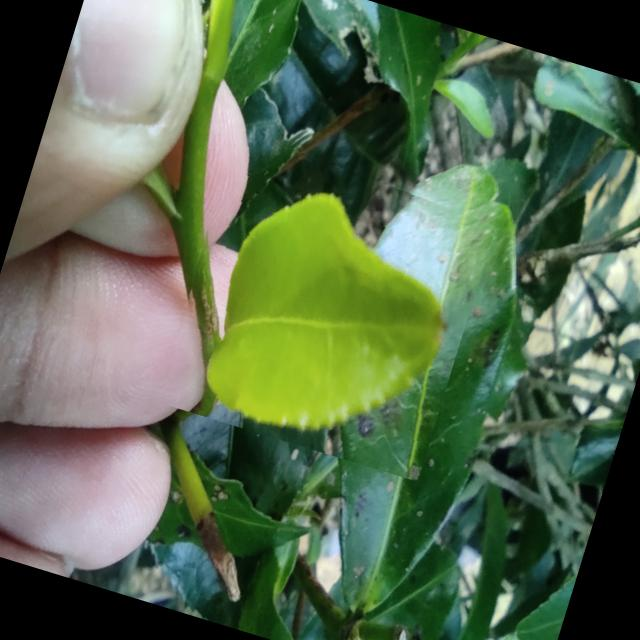Category C 4-7 days: (150, 126, 500, 482)
